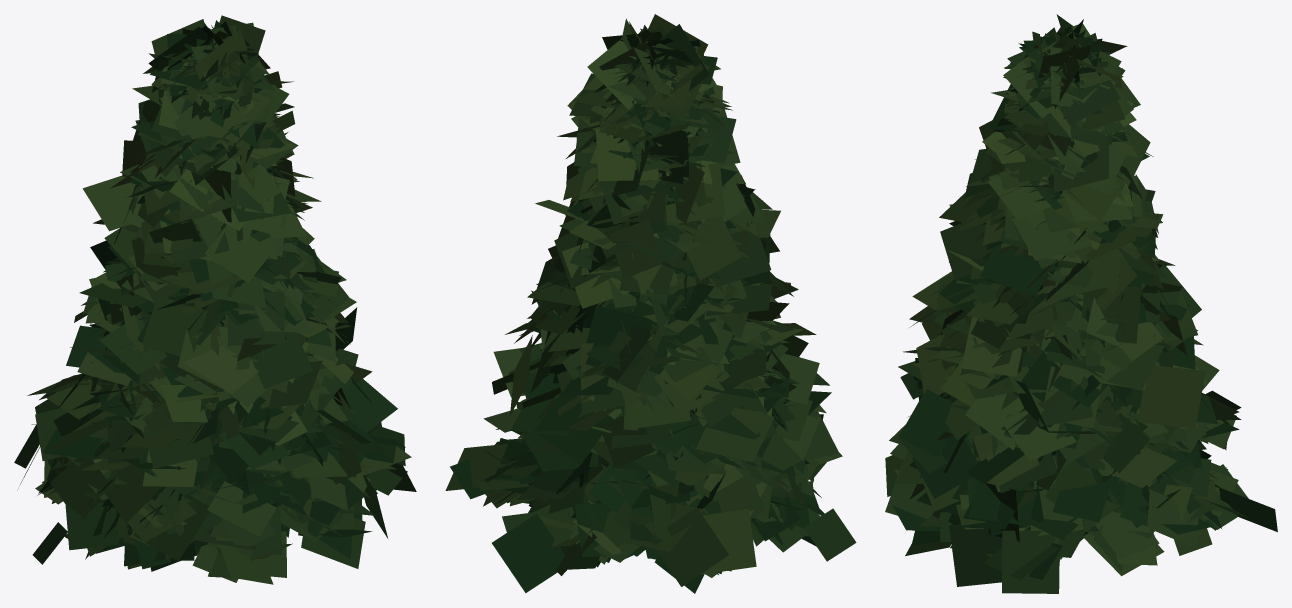
The model's file is PLN_Conifer_Mature.fbx.
The picture shows the model from 3 angles, left to right: view 1: azimuth 30°, elevation 25°; view 2: azimuth 150°, elevation 25°; view 3: azimuth 270°, elevation 25°; orthographic projection.
Parts seen in each view (by area): view 1: PLN_Conifer_Mature; view 2: PLN_Conifer_Mature; view 3: PLN_Conifer_Mature.
Part boxes in pixels (x1,y1,x2,y2): PLN_Conifer_Mature: (14,15,416,584); PLN_Conifer_Mature: (445,14,856,593); PLN_Conifer_Mature: (885,14,1277,593).
Size of the model in its own units: 11.07 by 15.34 by 10.61.
